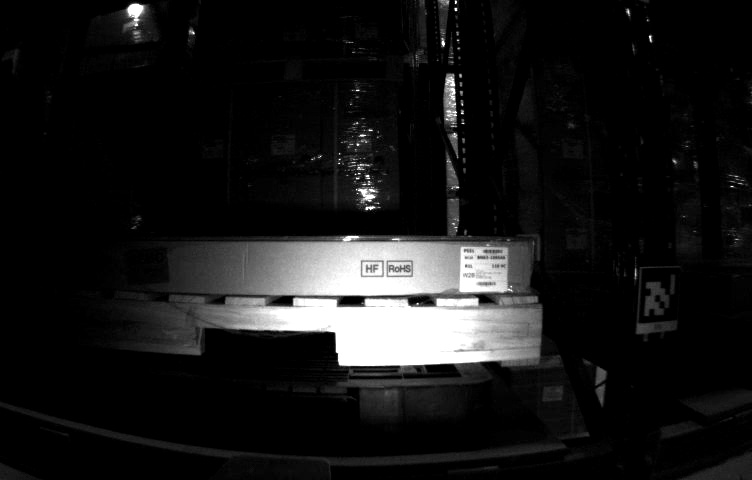True Barcode: (462, 245, 509, 294)
